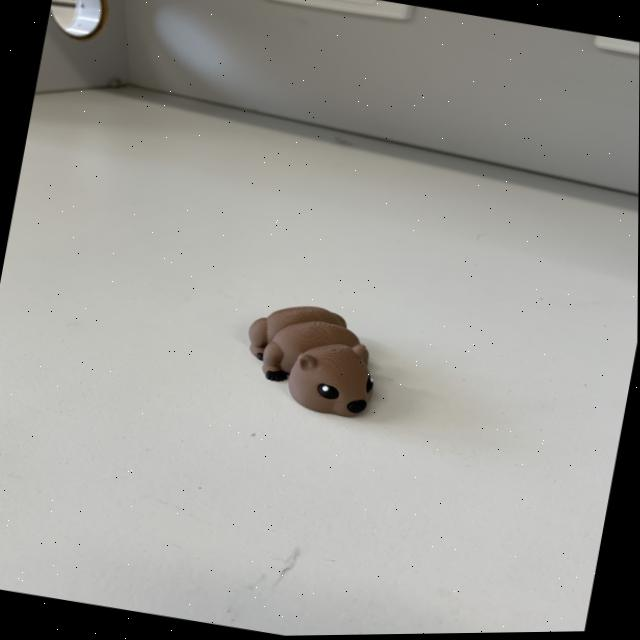wombat: (224, 277, 407, 435)
